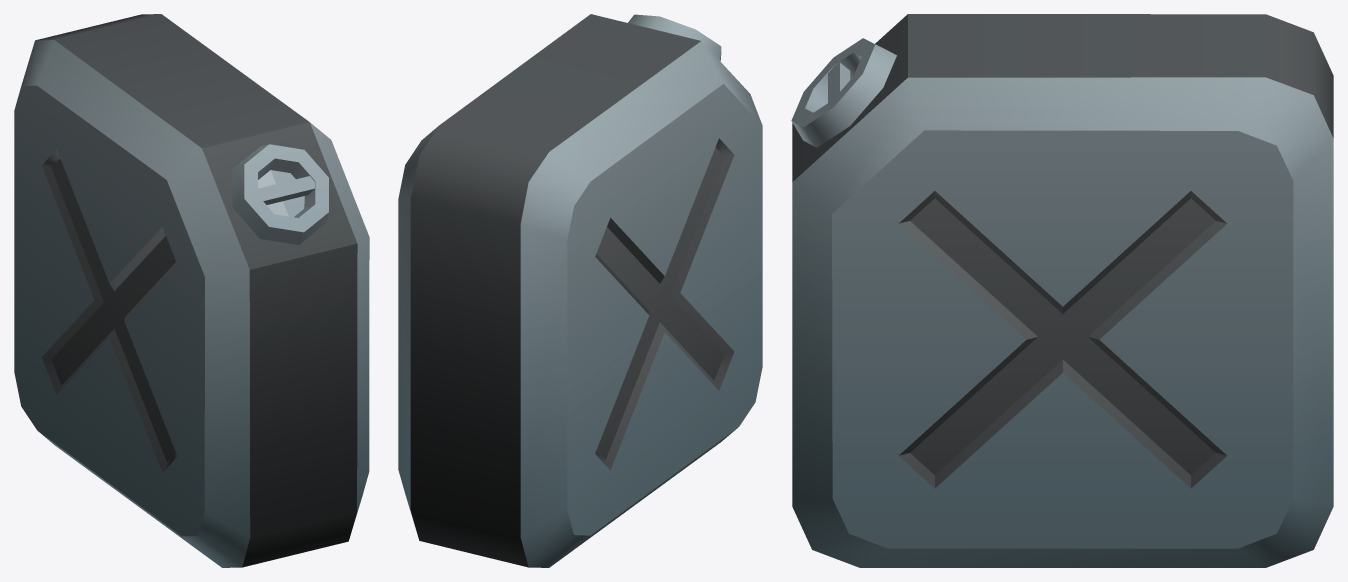
The model's file is Gas_can_007.fbx.
3 views of the same model, side by side, from view 1: azimuth 30°, elevation 25°; view 2: azimuth 150°, elevation 25°; view 3: azimuth 270°, elevation 25° (orthographic). The views are drawn at different scales.
Parts seen in each view (by area): view 1: Gas_can_007; view 2: Gas_can_007; view 3: Gas_can_007.
Part boxes in pixels (x1,y1,x2,y2): Gas_can_007: (14, 14, 369, 567); Gas_can_007: (398, 14, 762, 567); Gas_can_007: (791, 14, 1333, 567).
Size of the model in its own units: 21.2 by 49.98 by 50.
